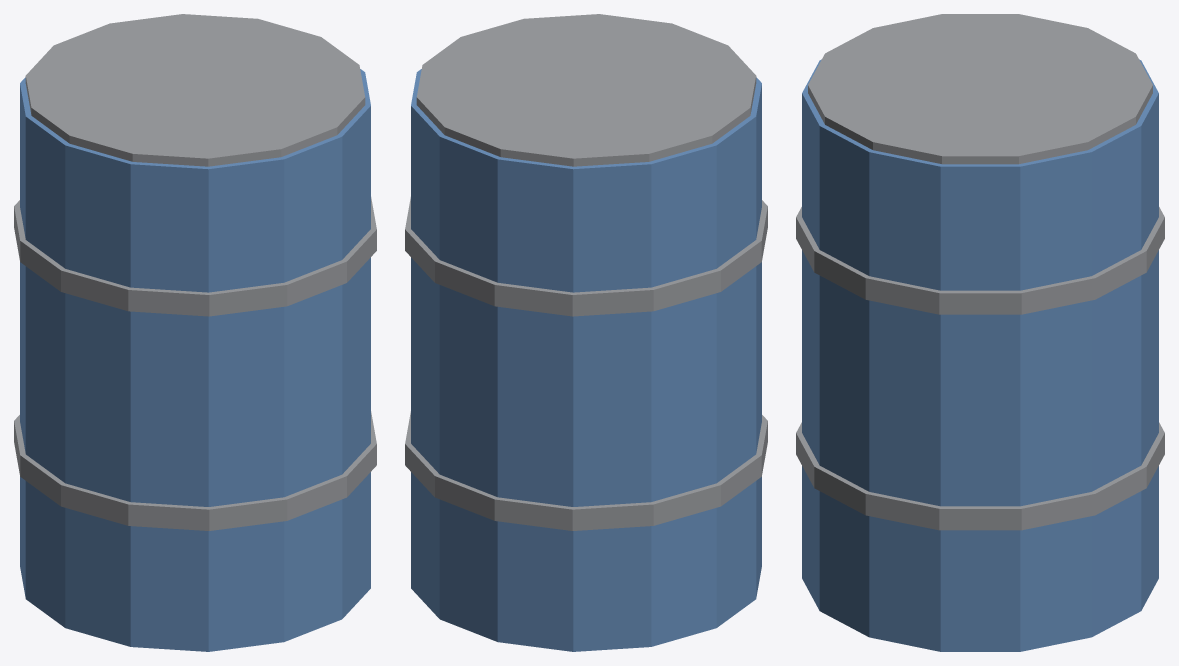
File: barrel.glb
The picture shows the model from 3 angles, left to right: view 1: azimuth 30°, elevation 25°; view 2: azimuth 150°, elevation 25°; view 3: azimuth 270°, elevation 25°; orthographic projection.
Visible parts, largest first — view 1: barrel; view 2: barrel; view 3: barrel.
Boxes of the visible parts, left/top/right/bottom form: barrel: left=14, top=14, right=376, bottom=651; barrel: left=405, top=14, right=767, bottom=651; barrel: left=796, top=14, right=1164, bottom=651.
Size of what is drawn, in the model's own units: 0.6045 by 0.915 by 0.62.
